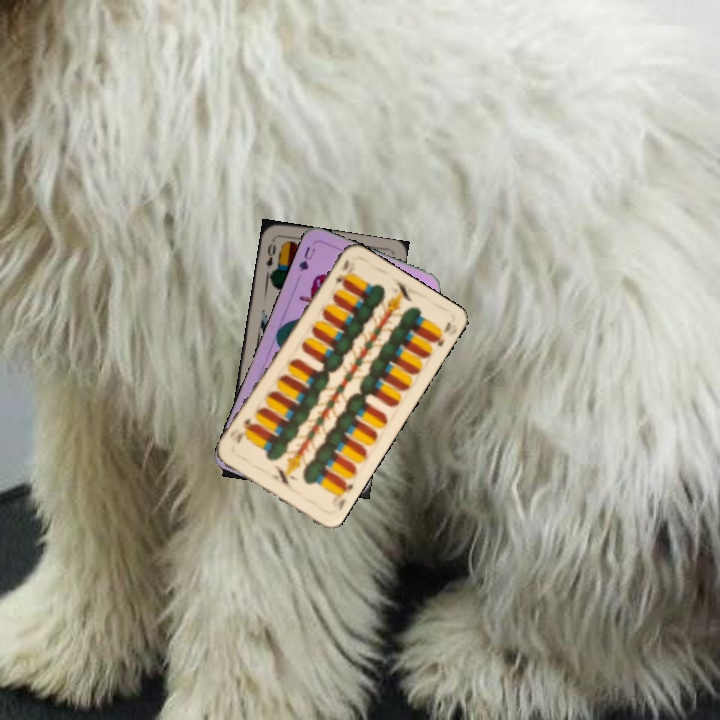E10: (335, 477, 356, 513), (331, 255, 352, 287)
EO: (262, 235, 278, 271)
GU: (295, 242, 318, 275)
